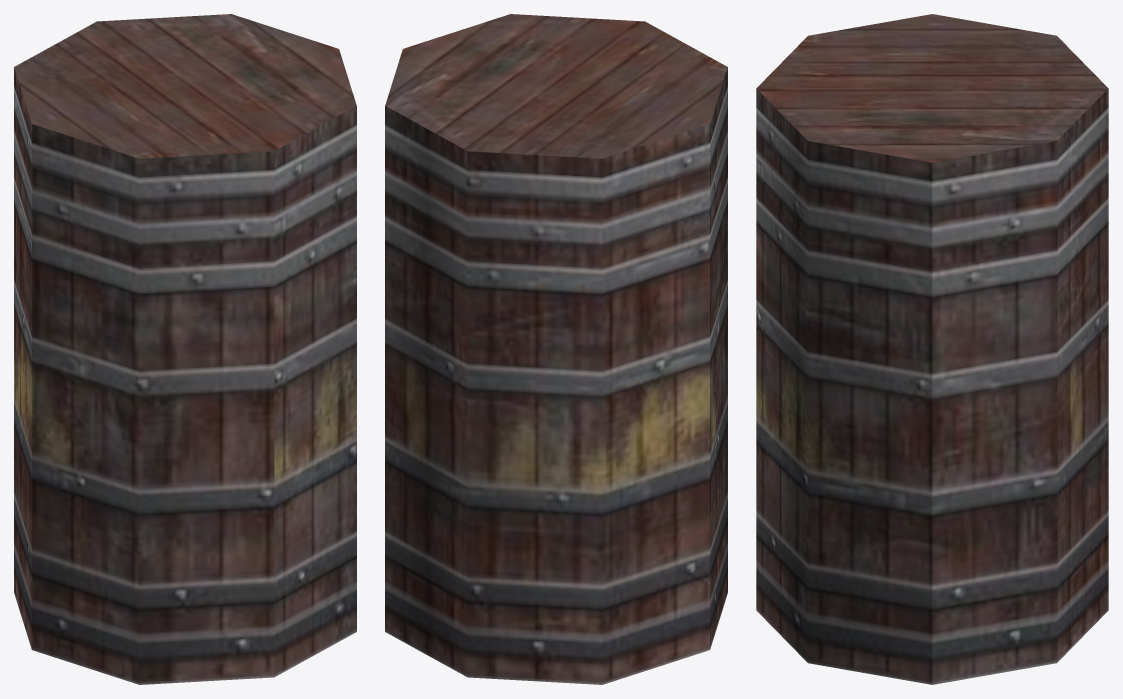
The model's file is Barrel.fbx.
3 renders of one model, left to right at view 1: azimuth 30°, elevation 25°; view 2: azimuth 150°, elevation 25°; view 3: azimuth 270°, elevation 25°, orthographic.
Parts seen in each view (by area): view 1: Barrel; view 2: Barrel; view 3: Barrel.
Part boxes in pixels (x1,y1,x2,y2): Barrel: [14, 14, 356, 684]; Barrel: [385, 14, 727, 684]; Barrel: [756, 14, 1108, 684].
Bounding box in the file's own units: 55 × 90 × 55.
